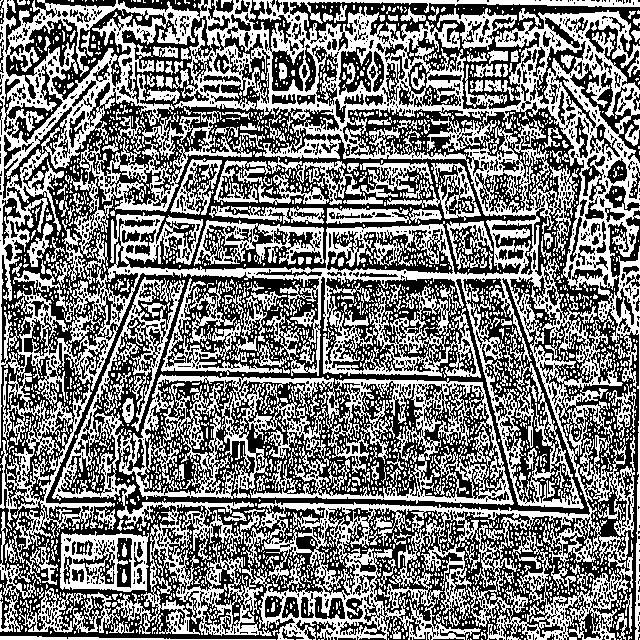left side: (49, 156, 225, 500), (429, 160, 587, 510)
player: (110, 394, 146, 562), (330, 65, 353, 156)
